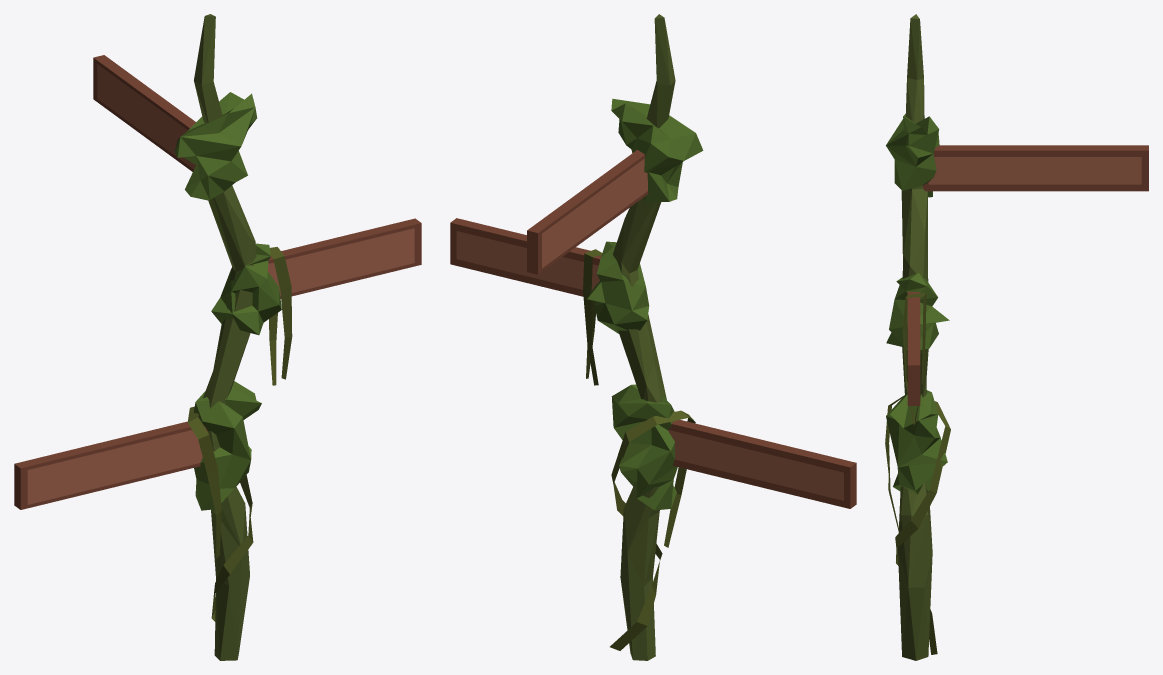
File: SignPost_Tree_Triple.glb
3 views of the same model, side by side, from view 1: azimuth 30°, elevation 25°; view 2: azimuth 150°, elevation 25°; view 3: azimuth 270°, elevation 25° (orthographic). The views are drawn at different scales.
Parts seen in each view (by area): view 1: Fantasy_Sign_02; view 2: Fantasy_Sign_02; view 3: Fantasy_Sign_02.
Boxes of the visible parts, <box> form: Fantasy_Sign_02: <box>14,14,421,660</box>; Fantasy_Sign_02: <box>450,14,856,660</box>; Fantasy_Sign_02: <box>885,14,1148,660</box>.
Size of what is drawn, in the model's own units: 2.3 by 3.54 by 1.34.
1 material, 1 textured.
